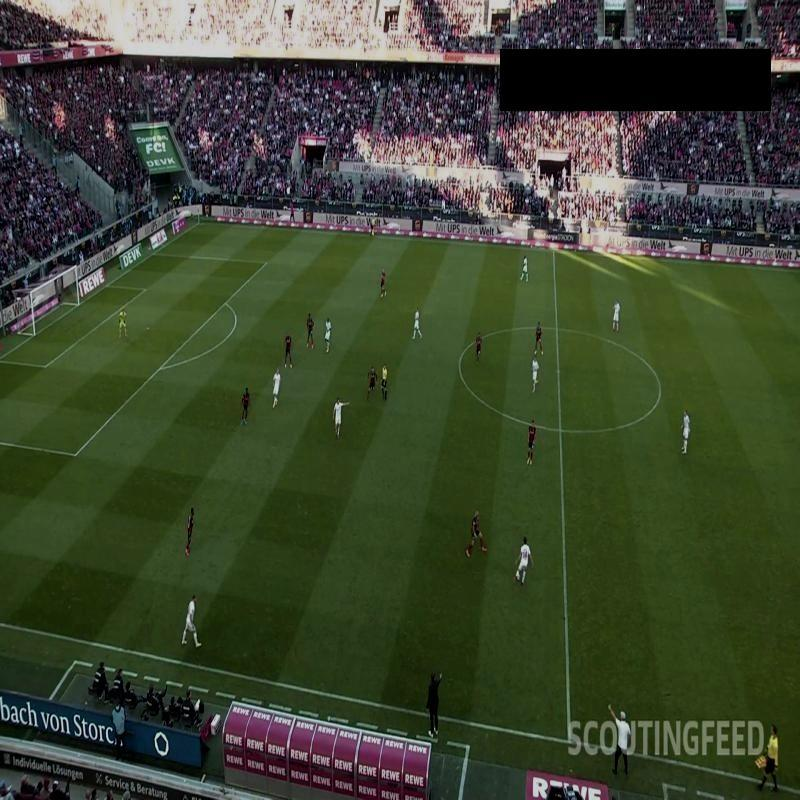1: (193, 216, 207, 230)
10: (220, 296, 234, 310)
11: (154, 360, 168, 374)
12: (69, 448, 83, 462)
13: (546, 244, 560, 258)
14: (549, 320, 563, 334)
15: (552, 422, 566, 436)
16: (556, 728, 584, 754)
2: (148, 245, 162, 259)
3: (99, 278, 114, 292)
7: (138, 281, 152, 295)
8: (38, 358, 52, 372)
9: (259, 256, 273, 270)
c: (453, 353, 468, 370), (652, 382, 666, 396)
